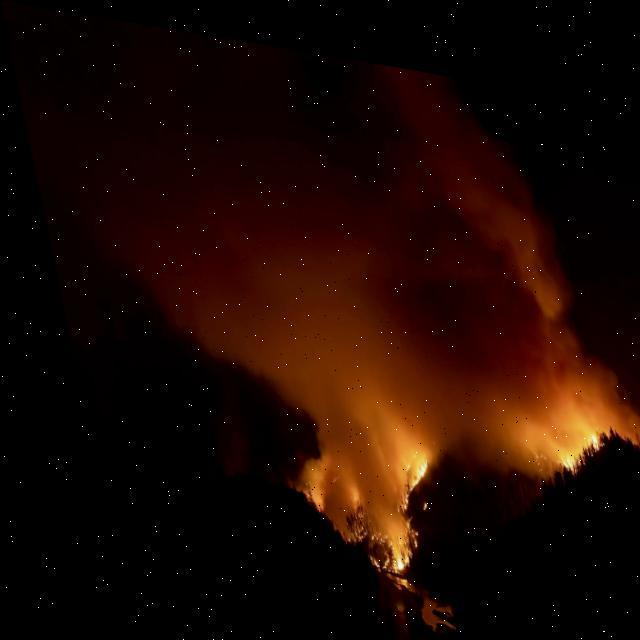Fire: (340, 518, 398, 568), (374, 440, 418, 502), (539, 428, 565, 459), (568, 410, 587, 433)
